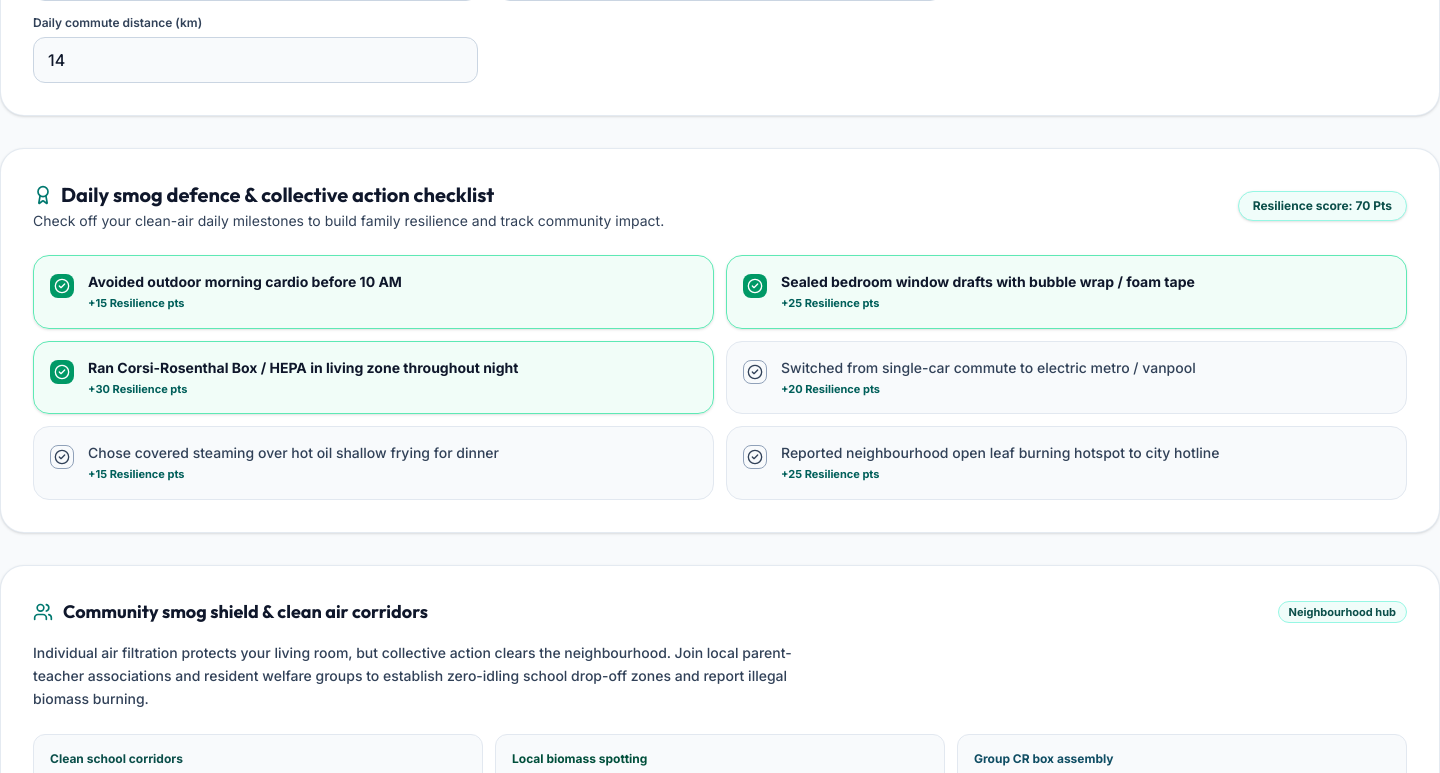
Test case: Impact ledger interaction › does not award points again when a pledge is switched back off
(page scrolled)
Step 1. Click the button with aria-label "toggle this pledge" → (1066, 378), box [726,341,1407,414]
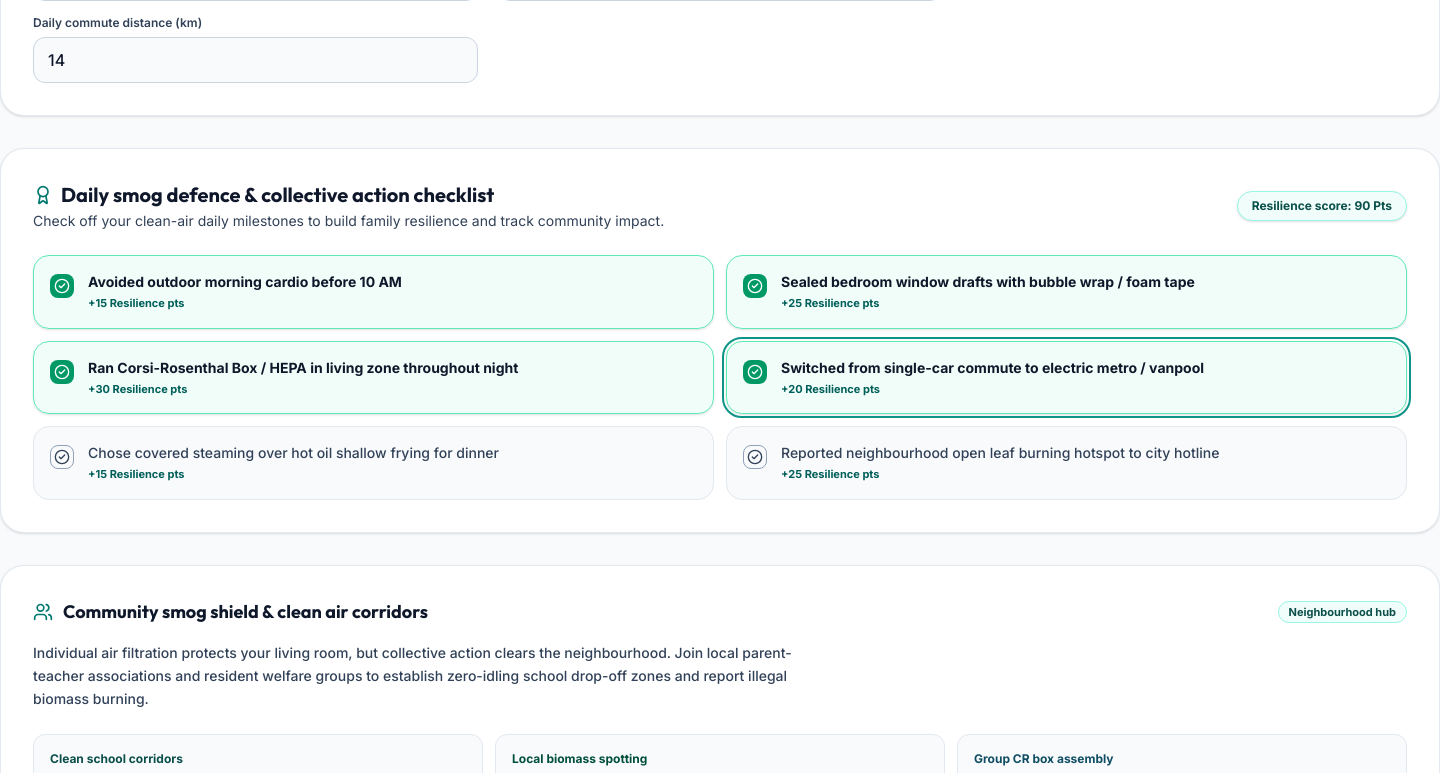
Step 2. Click the button with aria-label "toggle this pledge" → (1066, 378), box [726,341,1407,414]
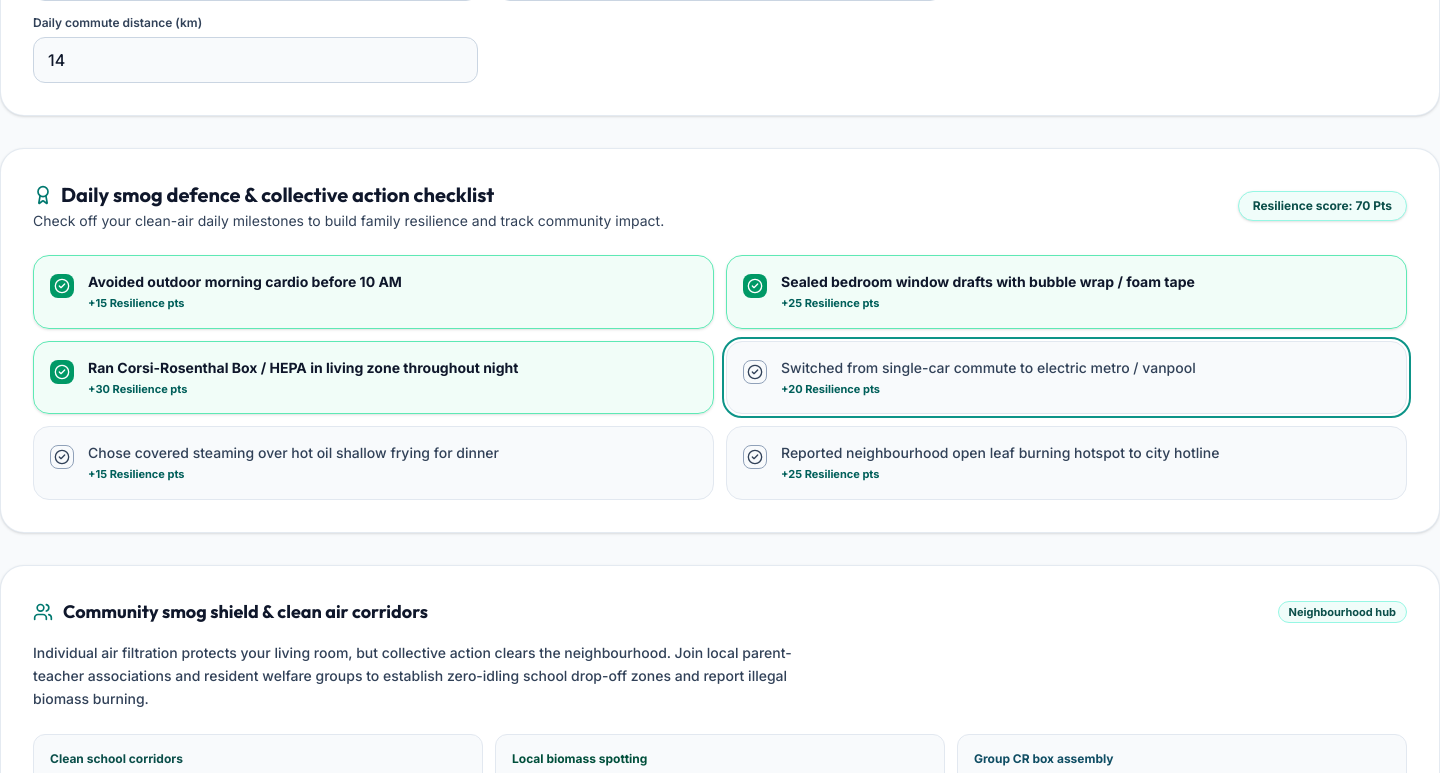
Expected: the button with aria-label "toggle this pledge" is not pressed, [726,341,1407,414]
